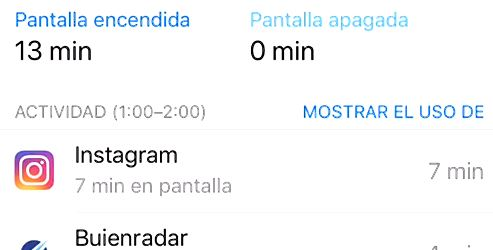activity: (5, 98, 216, 129)
app: (7, 140, 489, 197)
